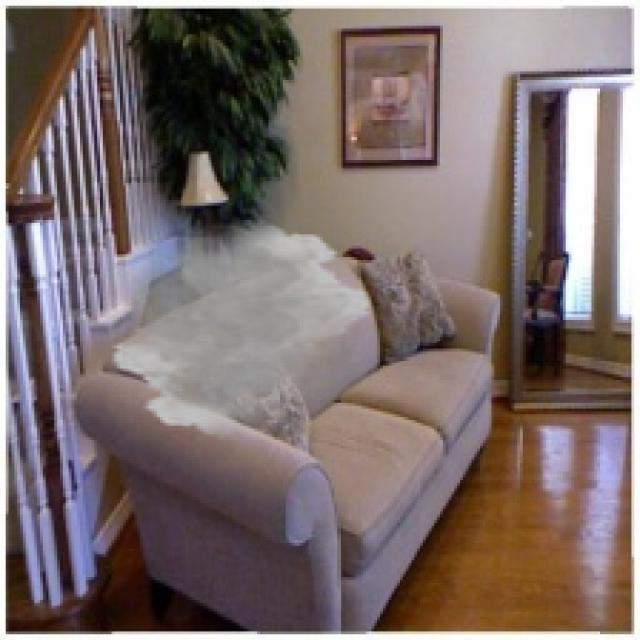Smoke: (108, 220, 374, 440)
